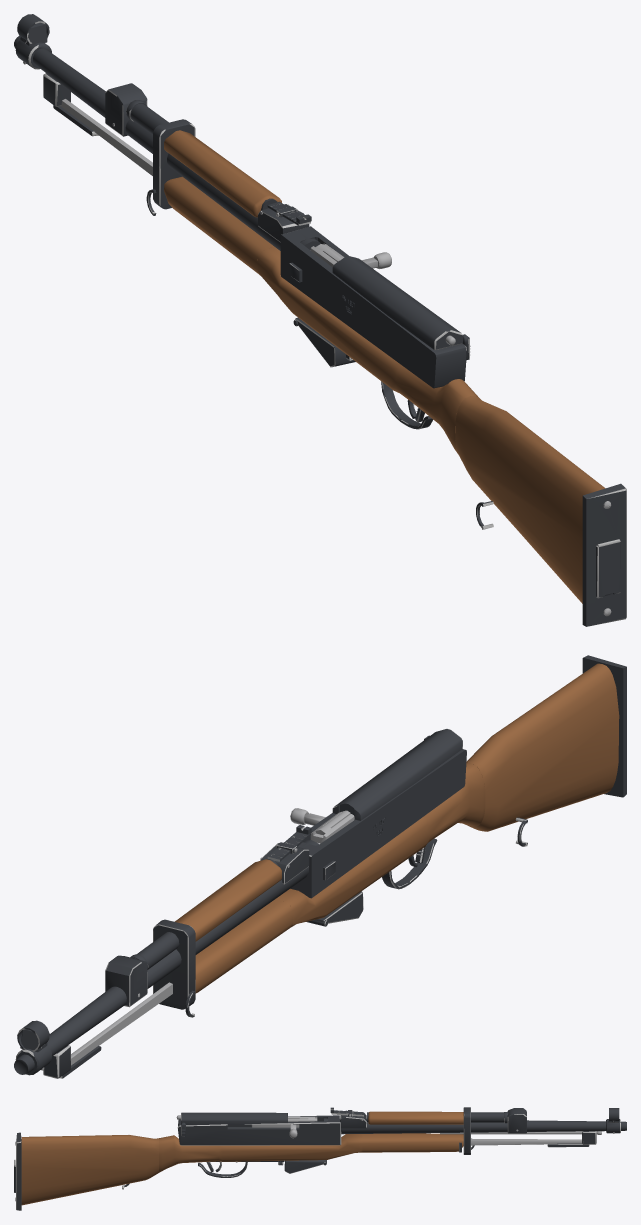
File: sks_lod1.glb
3 renders of one model, top to bottom at view 1: azimuth 30°, elevation 25°; view 2: azimuth 150°, elevation 25°; view 3: azimuth 270°, elevation 25°, orthographic. The views are drawn at different scales.
Parts seen in each view (by area): view 1: Blued, Wood, Steel, Worn; view 2: Wood, Blued, Steel, Worn; view 3: Wood, Blued, Steel, Worn.
Boxes of the visible parts, x1,y1,x2,y2 form: Blued: (14,14,626,626); Wood: (164,130,605,603); Steel: (23,61,611,616); Worn: (25,21,626,625); Wood: (175,663,619,993); Blued: (14,655,626,1078); Steel: (41,808,423,1070); Worn: (15,730,527,1078); Wood: (21,1111,463,1205); Blued: (14,1107,626,1210); Steel: (15,1114,614,1201); Worn: (14,1107,620,1209).
Size of the model in its own units: 0.0715 by 0.1795 by 1.03.
